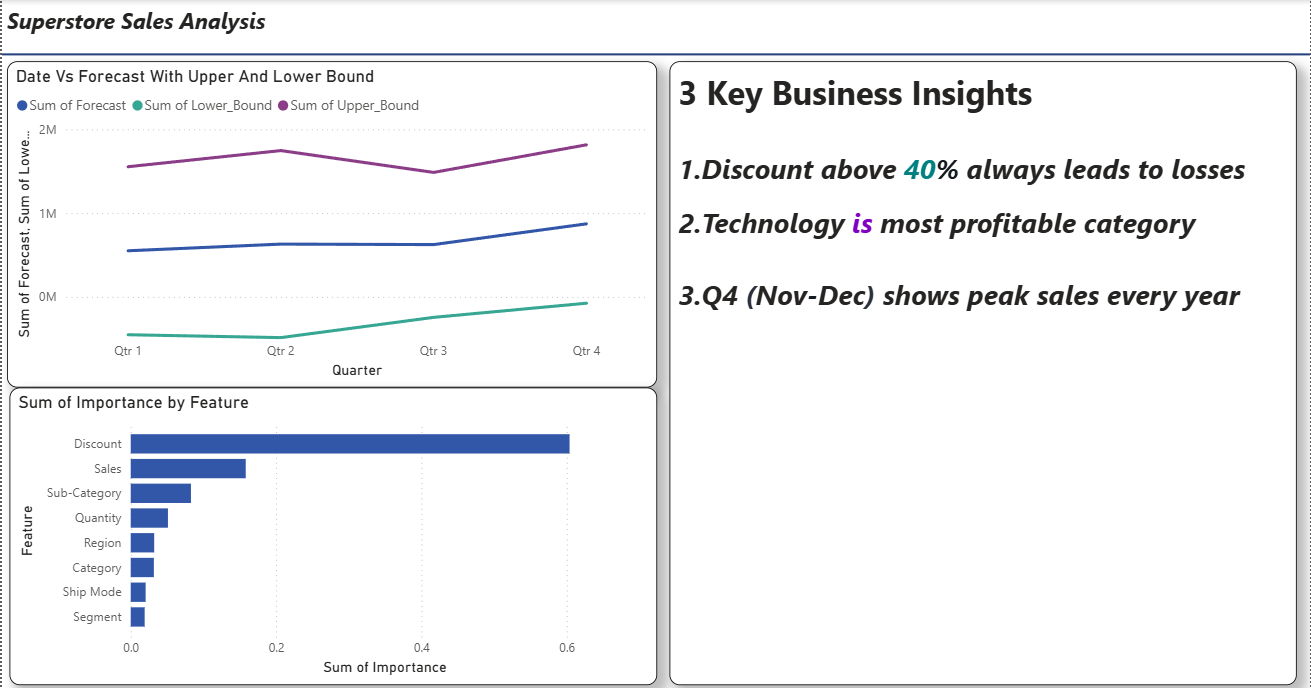

The dashboard page shown, as its layout file describes it:
{"tool":"powerbi","page":{"name":"Forecast & Insights","canvas":[1280,720],"ordinal":3},"visuals":[{"type":"shape","box":[0,46.5,1280.3,13.5],"z":0},{"type":"shape","box":[0,670.1,1280.3,13.5],"z":1000},{"type":"lineChart","title":"Date Vs Forecast With Upper And Lower Bound","fields":{"Category":["sales_forecast.Date.Variation.Date Hierarchy.Year","sales_forecast.Date.Variation.Date Hierarchy.Quarter","sales_forecast.Date.Variation.Date Hierarchy.Month","sales_forecast.Date.Variation.Date Hierarchy.Day"],"Y":["Sum(sales_forecast.Forecast)","Sum(sales_forecast.Lower_Bound)","Sum(sales_forecast.Upper_Bound)"]},"box":[4.9,59.9,635.9,319.2],"z":2000},{"type":"clusteredBarChart","fields":{"Category":["feature_importance.Feature"],"Y":["Sum(feature_importance.Importance)"]},"box":[7.3,379.1,633.4,291],"z":3000},{"type":"textbox","box":[653,59.9,613.9,610.2],"z":4000},{"type":"textbox","box":[0,0,299.6,46.5],"z":4001},{"type":"textbox","box":[88,683.3,177.3,36.7],"z":4002},{"type":"textbox","box":[0,683.3,81.9,36.7],"z":4003}]}

Visuals, with their boxes on the page's 1280x720 design canvas (x1, y1, x2, y2). These are canvas units, not pixel positions in the 1311x688 screenshot, which may show the page scaled, cropped or inside an application window:
shape: l=0, t=46, r=1280, b=60
shape: l=0, t=670, r=1280, b=684
"Date Vs Forecast With Upper And Lower Bound" lineChart: l=5, t=60, r=641, b=379
clusteredBarChart - feature_importance.Feature x Sum(feature_importance.Importance): l=7, t=379, r=641, b=670
textbox: l=653, t=60, r=1267, b=670
textbox: l=0, t=0, r=300, b=46
textbox: l=88, t=683, r=265, b=720
textbox: l=0, t=683, r=82, b=720
